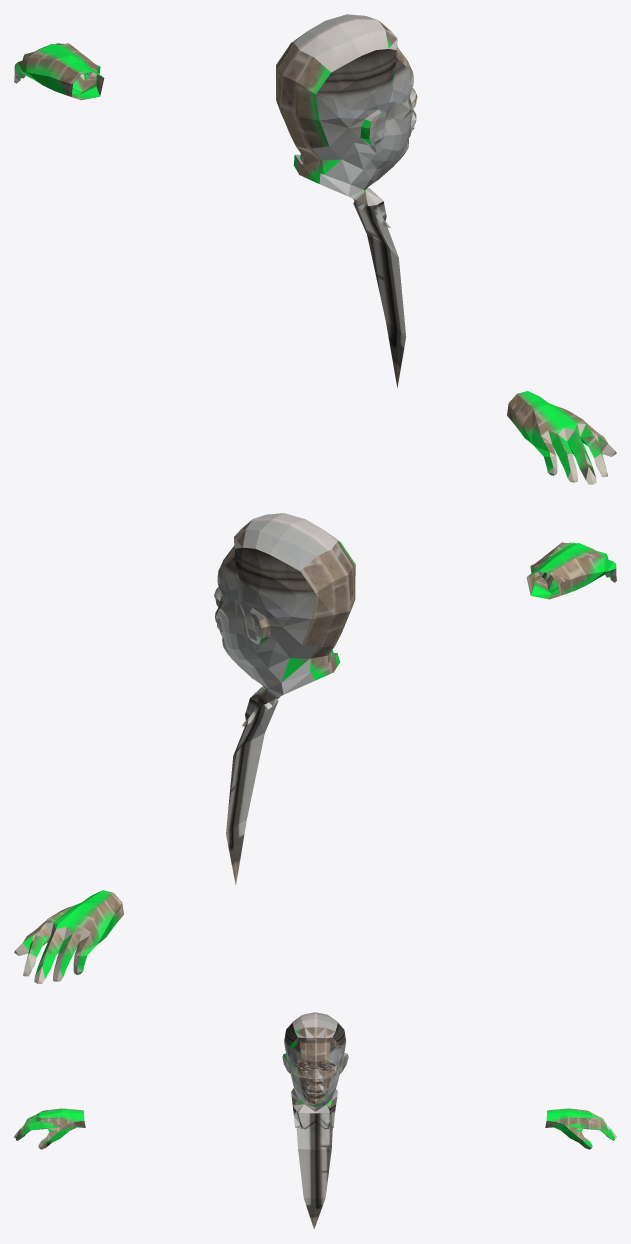
File: head.obj
3 renders of one model, top to bottom at view 1: azimuth 30°, elevation 25°; view 2: azimuth 150°, elevation 25°; view 3: azimuth 270°, elevation 25°, orthographic. The views are drawn at different scales.
Parts seen in each view (by area): view 1: Body.001_0002_Object.003_Mesh._0002_Object.003_Mesh._Morgan_Fre; view 2: Body.001_0002_Object.003_Mesh._0002_Object.003_Mesh._Morgan_Fre; view 3: Body.001_0002_Object.003_Mesh._0002_Object.003_Mesh._Morgan_Fre.
Boxes of the visible parts, x1=… form: Body.001_0002_Object.003_Mesh._0002_Object.003_Mesh._Morgan_Fre: x1=14, y1=14, x2=616, y2=484; Body.001_0002_Object.003_Mesh._0002_Object.003_Mesh._Morgan_Fre: x1=14, y1=513, x2=616, y2=983; Body.001_0002_Object.003_Mesh._0002_Object.003_Mesh._Morgan_Fre: x1=14, y1=1012, x2=616, y2=1229.
Size of the model in its own units: 0.2591 by 0.6821 by 1.86.
Materials: 1 (1 with a texture image).
